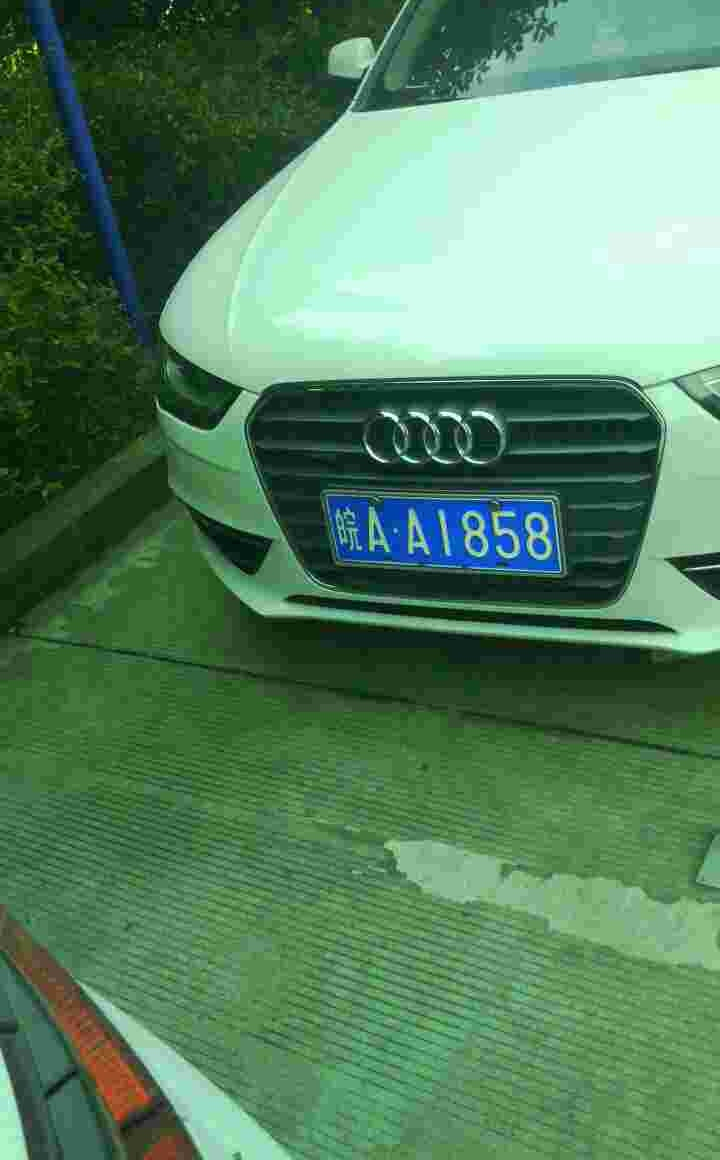license_plate: (330, 491, 556, 578)
